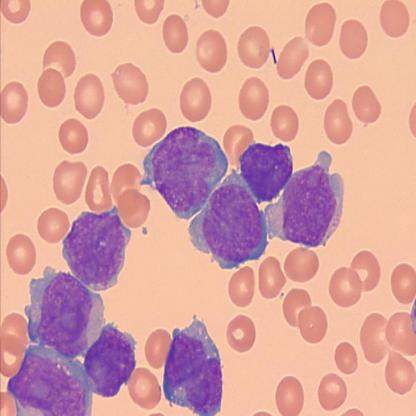Blast: (138, 122, 229, 221), (187, 168, 269, 273), (263, 147, 346, 249), (22, 264, 107, 357), (59, 202, 133, 294), (79, 320, 139, 400), (239, 140, 295, 208)
